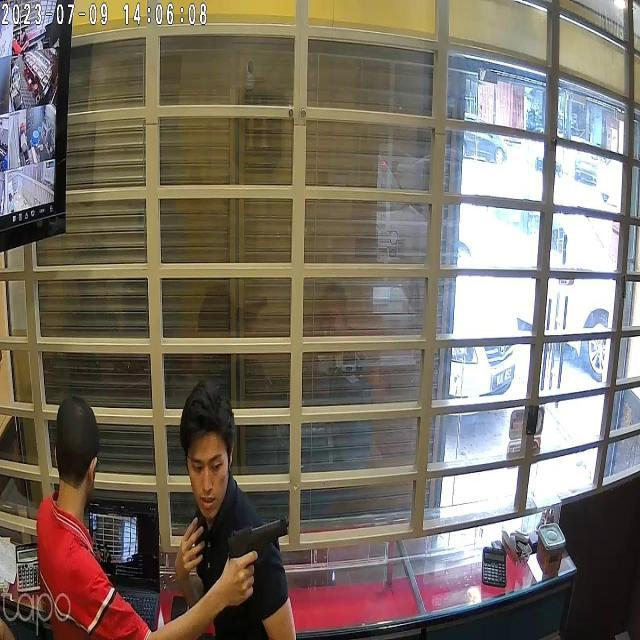Gun: (222, 515, 292, 574)
